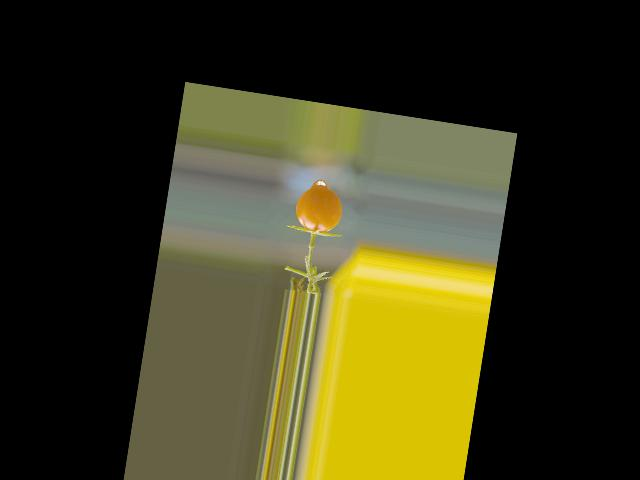tomato: (292, 183, 344, 235)
